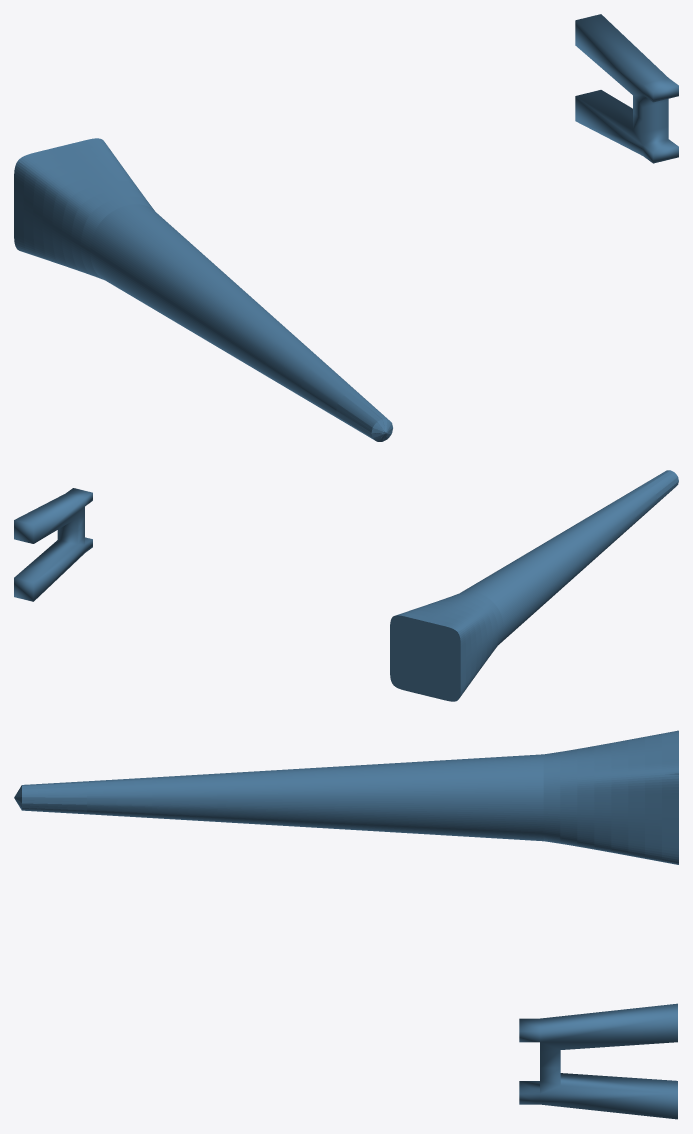
File: mast and boomrest.glb
3 renders of one model, top to bottom at view 1: azimuth 30°, elevation 25°; view 2: azimuth 150°, elevation 25°; view 3: azimuth 270°, elevation 25°, orthographic. The views are drawn at different scales.
Parts seen in each view (by area): view 1: mast and boomrest; view 2: mast and boomrest; view 3: mast and boomrest.
Part boxes in pixels (x1,y1,x2,y2): mast and boomrest: [14, 14, 678, 441]; mast and boomrest: [14, 470, 678, 701]; mast and boomrest: [14, 730, 678, 1119].
Size of the model in its own units: 63.15 by 10.38 by 60.72.
